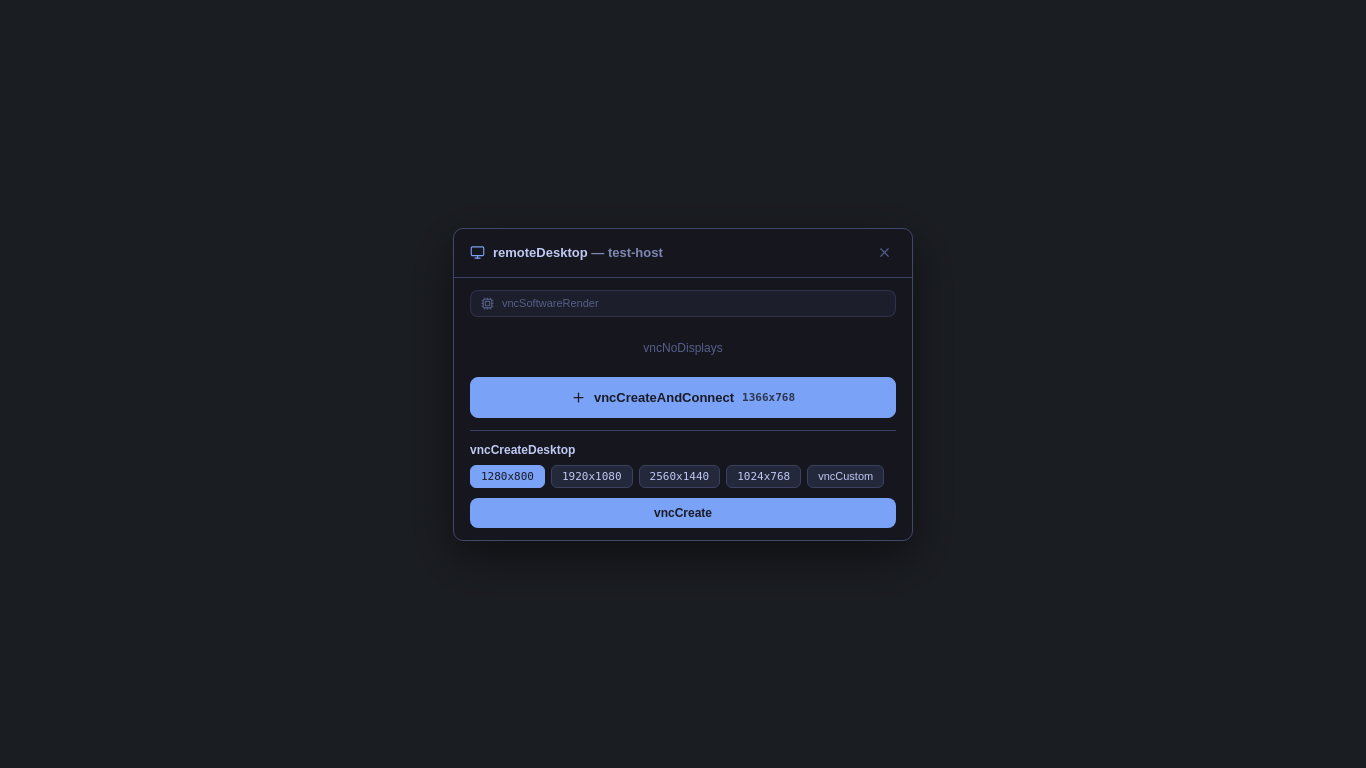
Test: VncDisplayPicker › shows error banner when create fails with 409
The image size is (1366, 768).
Check: the text "vncCreateDesktop" is shown, box 470,442 -> 575,456
Click the button "vncCreate" at (683, 512), box 470,498 -> 896,528
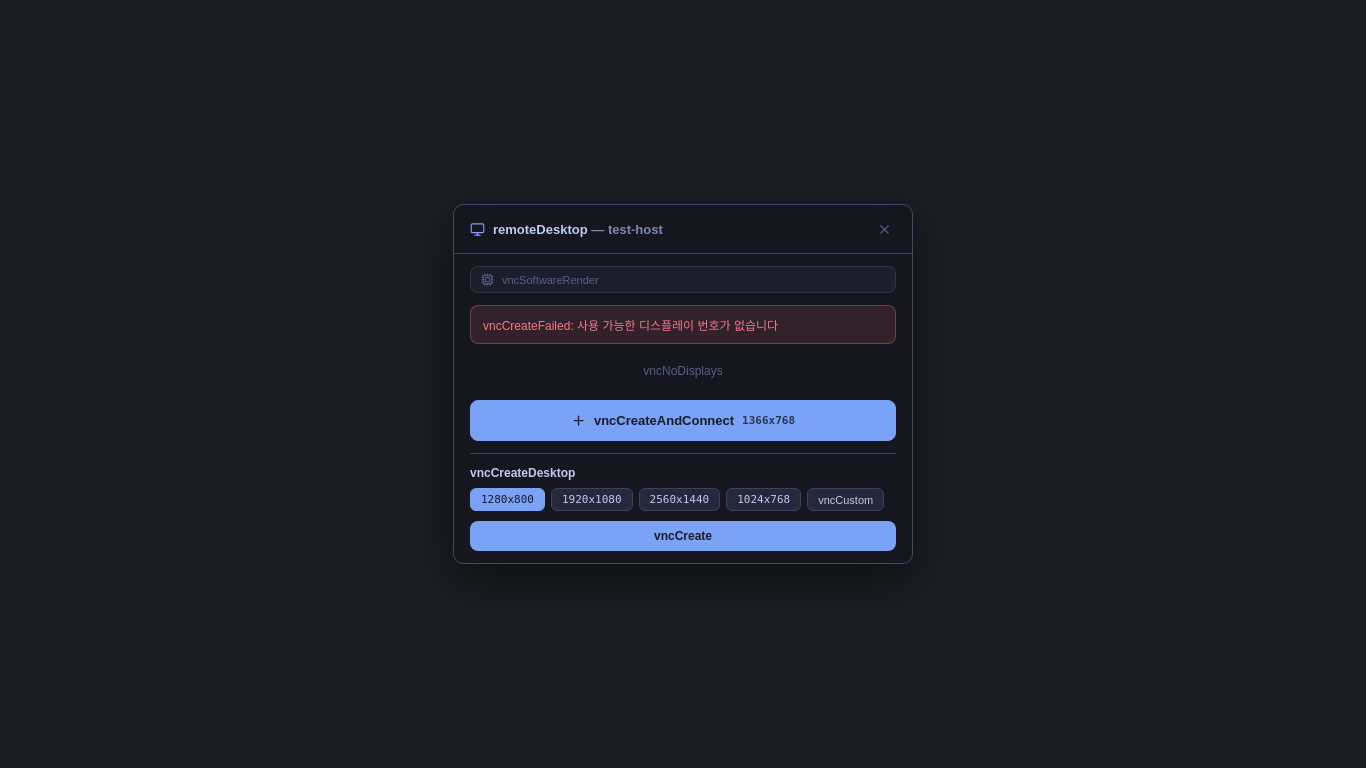
Check: the text "vncCreateFailed: 사용 가능한 디스플레이 번호가 없습니다" is shown, box 470,305 -> 896,344
